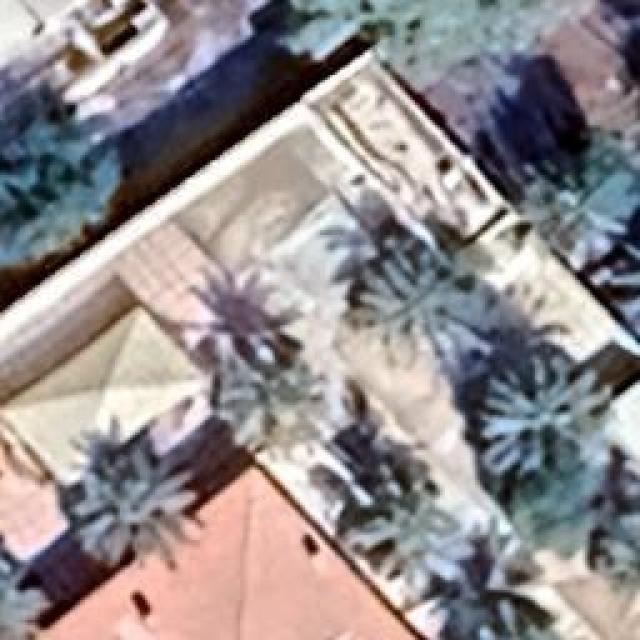PalmTree: (115, 90, 619, 567), (42, 109, 499, 592), (324, 392, 488, 612), (360, 242, 500, 396), (57, 452, 205, 570), (475, 358, 610, 480), (218, 360, 340, 452), (454, 605, 584, 640), (0, 560, 48, 638), (604, 230, 638, 328), (460, 616, 584, 640)
